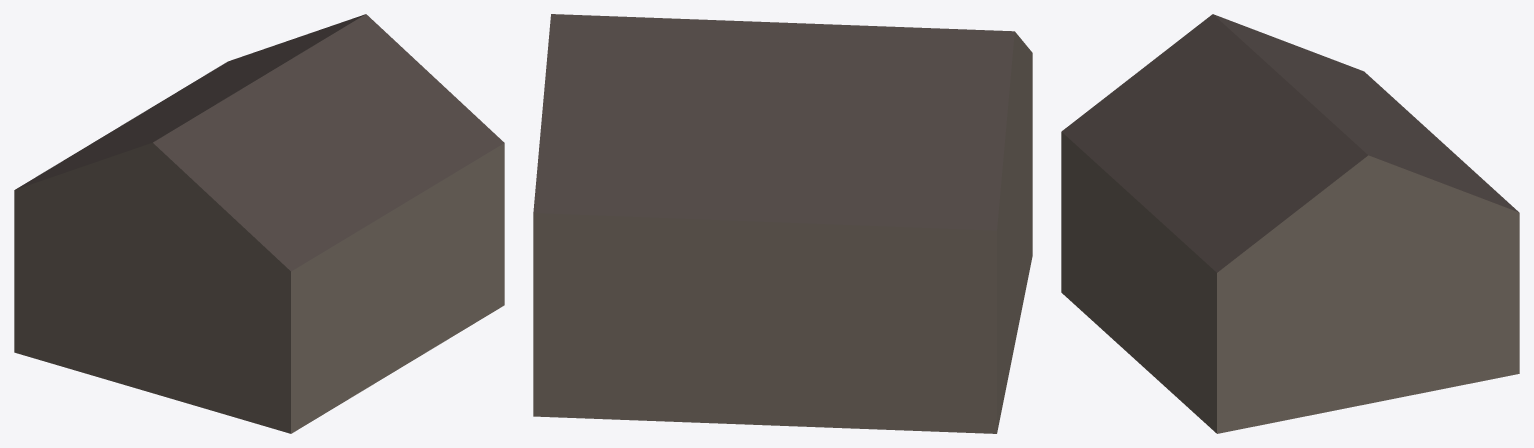
3 views of the same model, side by side, from view 1: azimuth 30°, elevation 25°; view 2: azimuth 150°, elevation 25°; view 3: azimuth 270°, elevation 25° (orthographic). The views are drawn at different scales.
Visible parts, largest first — view 1: HP-w378107107; view 2: HP-w378107107; view 3: HP-w378107107.
Boxes of the visible parts, x1,y1,x2,y2 form: HP-w378107107: [14, 14, 504, 433]; HP-w378107107: [533, 14, 1032, 433]; HP-w378107107: [1061, 14, 1519, 433].
Bounding box in the file's own units: 16.09 × 9.26 × 15.47.
